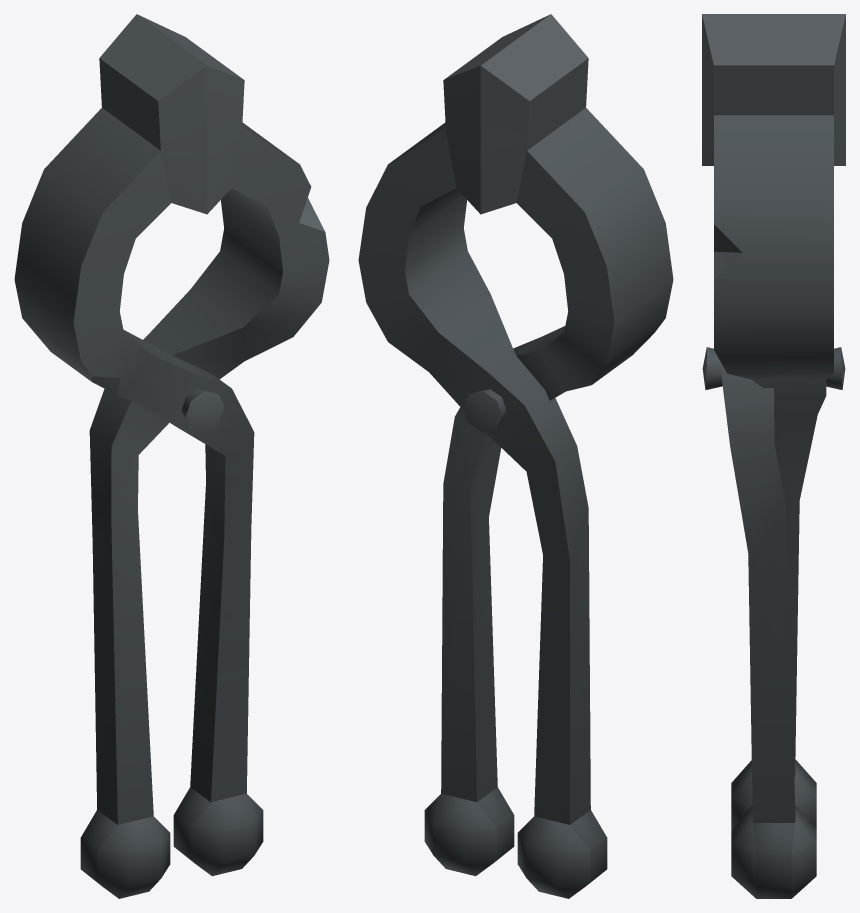
Rendered from tongs.glb.
The picture shows the model from 3 angles, left to right: view 1: azimuth 30°, elevation 25°; view 2: azimuth 150°, elevation 25°; view 3: azimuth 270°, elevation 25°; orthographic projection.
Visible parts, largest first — view 1: tongs, tongs_part; view 2: tongs, tongs_part; view 3: tongs_part, tongs.
Boxes of the visible parts, x1,y1,x2,y2 form: tongs: [14, 14, 263, 876]; tongs_part: [80, 14, 329, 898]; tongs: [424, 14, 673, 876]; tongs_part: [358, 14, 607, 898]; tongs_part: [702, 14, 845, 828]; tongs: [702, 347, 845, 898].
Size of the model in its own units: 0.2468 by 0.7717 by 0.1178.
Materials: 1 (1 with a texture image).
